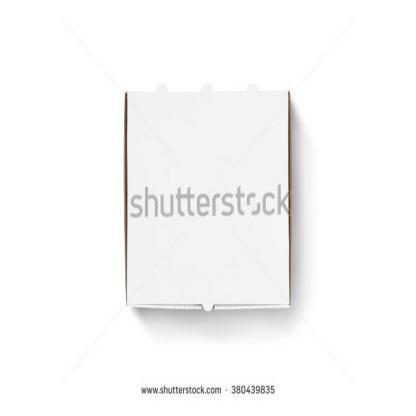package: (123, 92, 292, 310)
